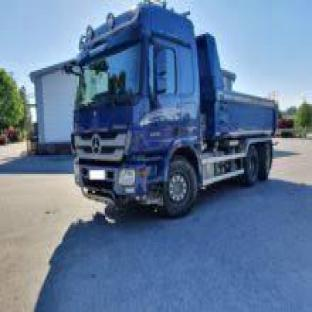Vehicle: (66, 9, 282, 210)
